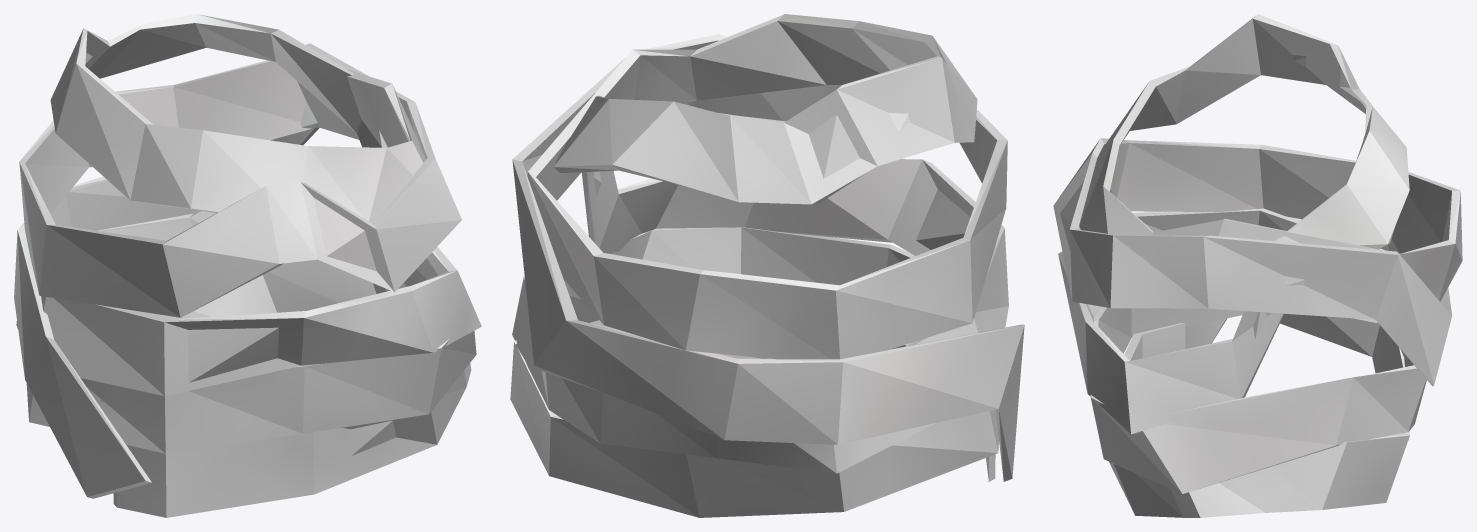
The model's file is MUMMY WRAP.fbx.
3 views of the same model, side by side, from view 1: azimuth 30°, elevation 25°; view 2: azimuth 150°, elevation 25°; view 3: azimuth 270°, elevation 25° (orthographic). The views are drawn at different scales.
Parts seen in each view (by area): view 1: MUMMY_WRAP; view 2: MUMMY_WRAP; view 3: MUMMY_WRAP.
Boxes of the visible parts, x1,y1,x2,y2 form: MUMMY_WRAP: (14,14,481,517); MUMMY_WRAP: (510,14,1024,517); MUMMY_WRAP: (1053,14,1462,517).
Size of the model in its own units: 30.71 by 28.96 by 28.54.
